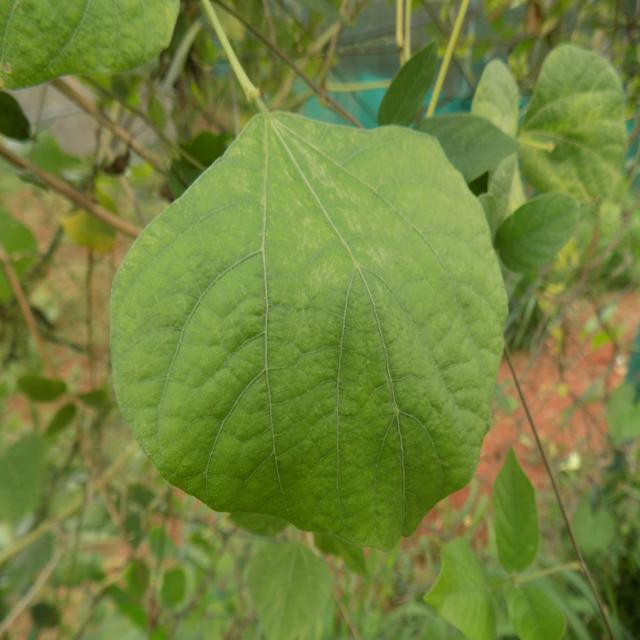Dolicos bean_healthy: (102, 108, 514, 564), (522, 48, 629, 204)
